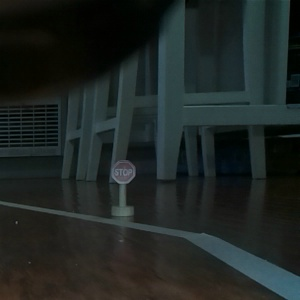stop sign: (109, 159, 137, 219)
